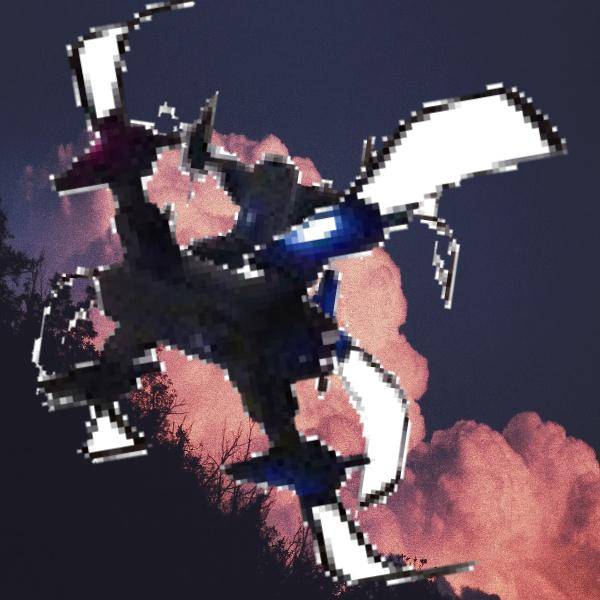drone: (21, 70, 471, 520)
